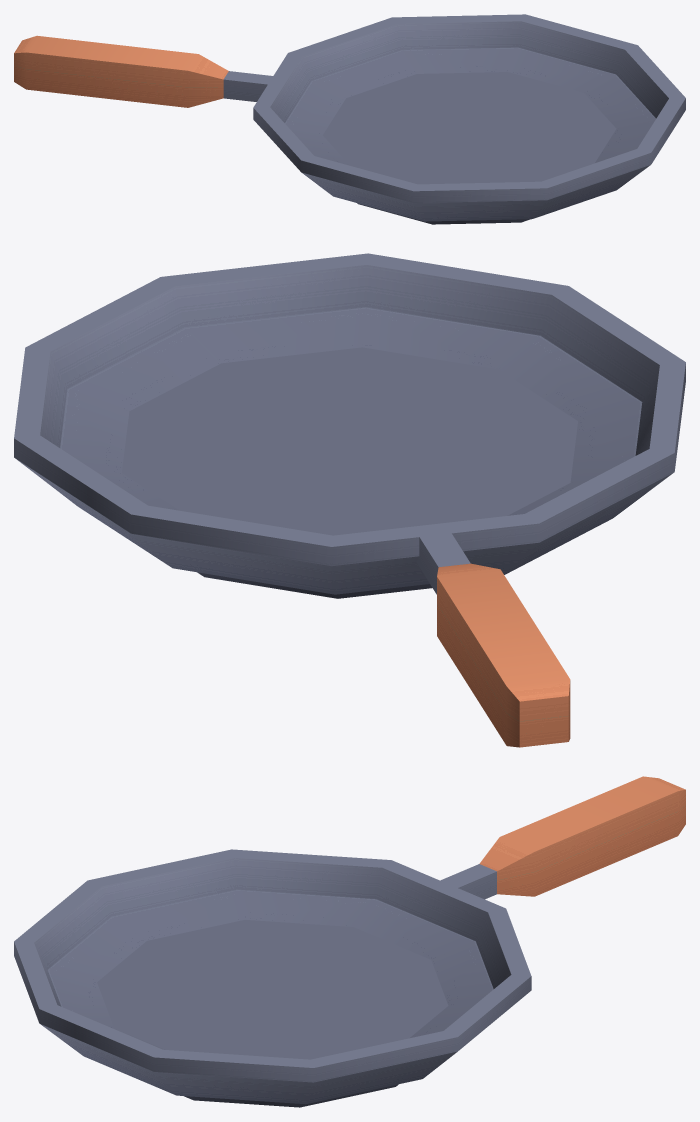
File: Kitchen_FryingPan.glb
The picture shows the model from 3 angles, top to bottom: view 1: azimuth 30°, elevation 25°; view 2: azimuth 150°, elevation 25°; view 3: azimuth 270°, elevation 25°; orthographic projection. The views are drawn at different scales.
Visible parts, largest first — view 1: Kitchen_FryingPan; view 2: Kitchen_FryingPan; view 3: Kitchen_FryingPan.
Part boxes in pixels (x1,y1,x2,y2): Kitchen_FryingPan: (14, 14, 685, 224); Kitchen_FryingPan: (14, 253, 685, 747); Kitchen_FryingPan: (14, 776, 685, 1107).
Bounding box in the file's own units: 0.8432 × 0.1206 × 0.8432.
Materials: 1 (1 with a texture image).
